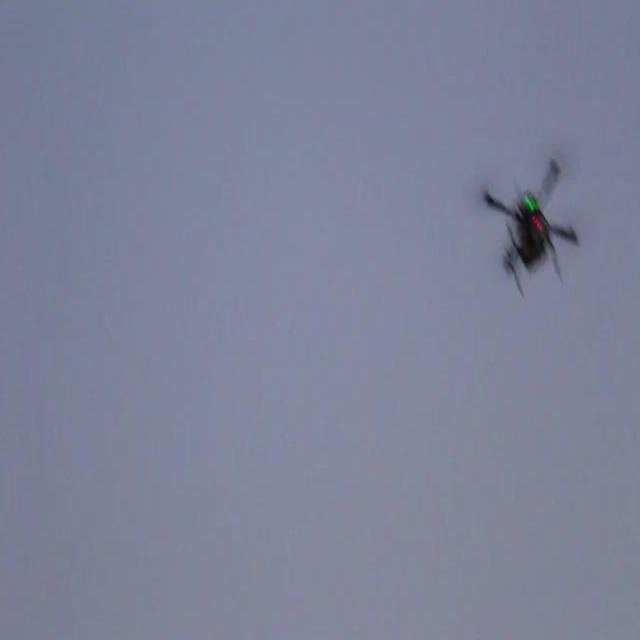drone: (484, 159, 581, 299)
